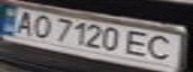0: (103, 25, 124, 54)
1: (69, 19, 87, 46)
2: (84, 21, 106, 51)
7: (51, 16, 75, 43)
A: (9, 9, 39, 36)
C: (142, 33, 184, 62)
E: (124, 29, 154, 58)
O: (27, 12, 54, 39)
